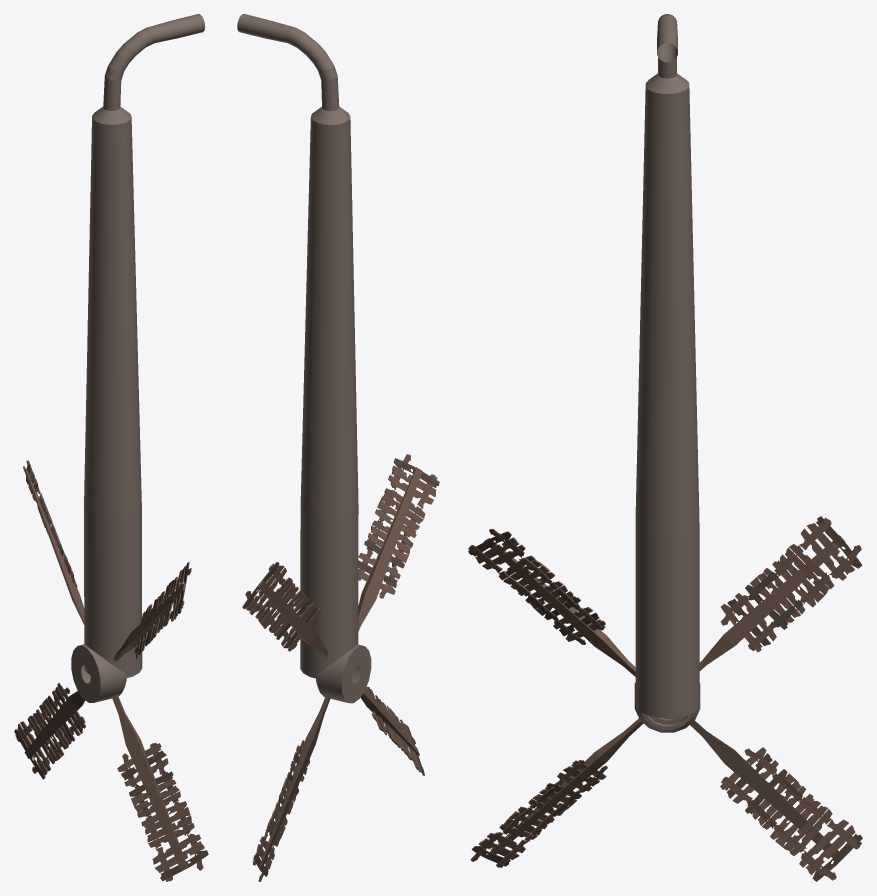
File: Molino_aspas (2).fbx
3 views of the same model, side by side, from view 1: azimuth 30°, elevation 25°; view 2: azimuth 150°, elevation 25°; view 3: azimuth 270°, elevation 25° (orthographic). The views are drawn at different scales.
Visible parts, largest first — view 1: Molino.001, Aspas.001; view 2: Molino.001, Aspas.001; view 3: Molino.001, Aspas.001.
Part boxes in pixels (box(x1,y1,x2,y2)): Molino.001: box(84, 14, 205, 678); Aspas.001: box(14, 460, 208, 881); Molino.001: box(237, 14, 358, 678); Aspas.001: box(242, 454, 439, 881); Molino.001: box(635, 14, 699, 717); Aspas.001: box(468, 516, 862, 881).
Size of the model in its own units: 498 by 3284 by 1323.
